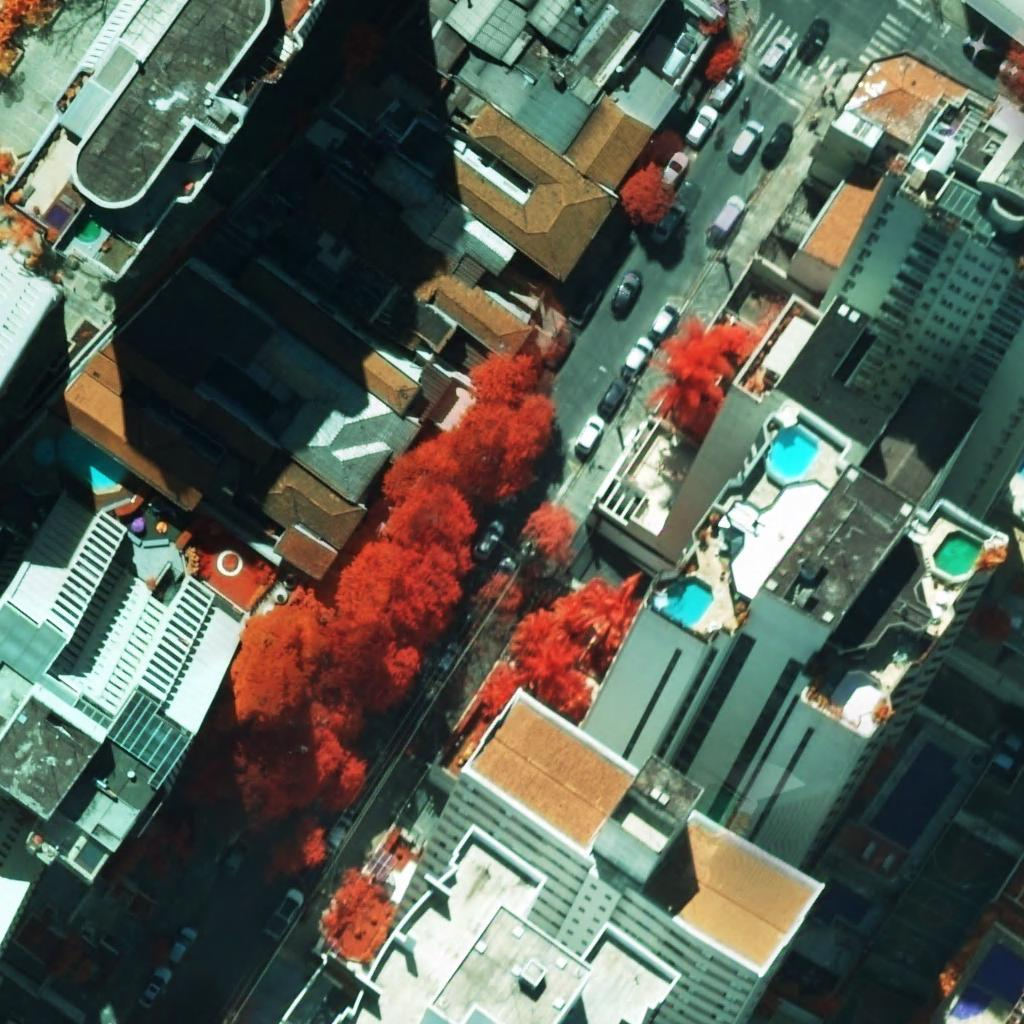pool: (870, 743, 960, 850), (32, 431, 128, 492), (950, 941, 1024, 1020), (769, 425, 819, 478), (666, 576, 714, 626), (933, 531, 983, 576)
